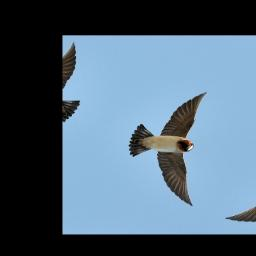Swallow: (105, 78, 256, 208)
